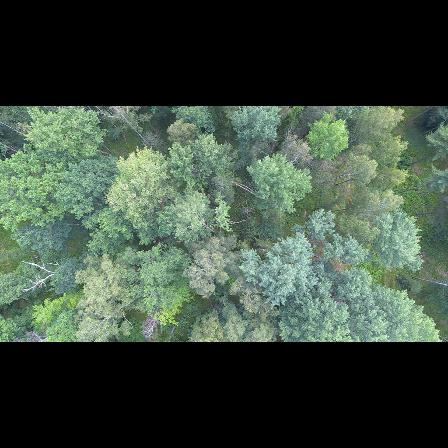Dead: (109, 106, 154, 152), (17, 253, 65, 294), (137, 312, 166, 340)
